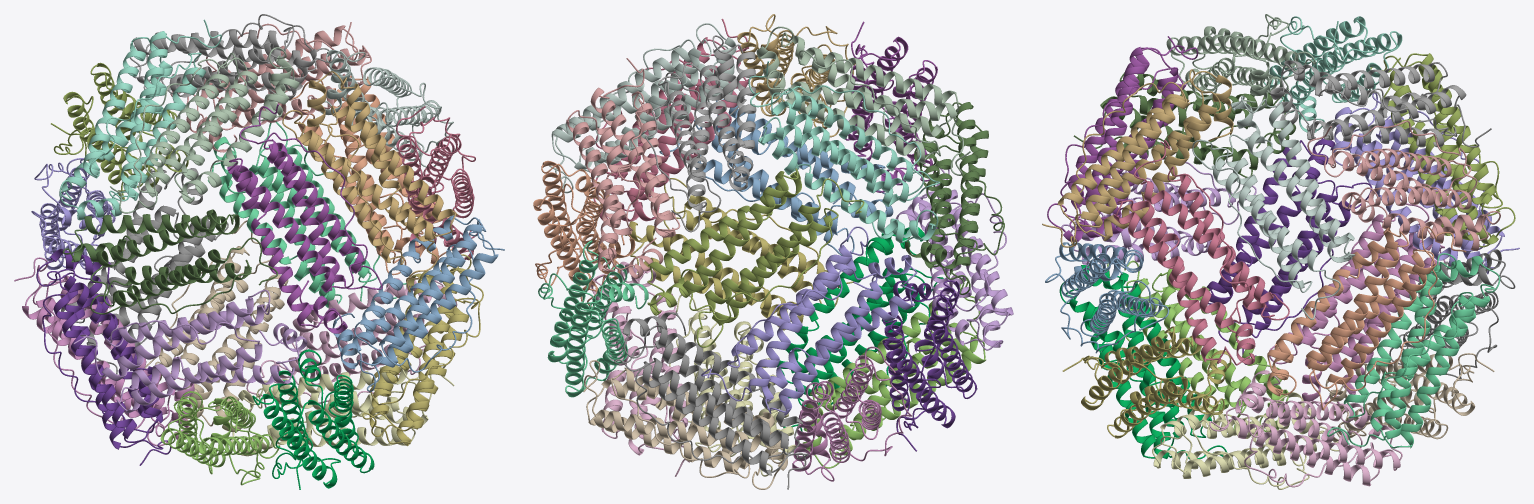
File: FERRITIN-1MFR.glb
3 renders of one model, left to right at view 1: azimuth 30°, elevation 25°; view 2: azimuth 150°, elevation 25°; view 3: azimuth 270°, elevation 25°, orthographic.
Visible parts, largest first — view 1: ribbons; view 2: ribbons; view 3: ribbons.
Part boxes in pixels (x1,y1,x2,y2): ribbons: (14, 14, 504, 489); ribbons: (533, 14, 1013, 489); ribbons: (1042, 14, 1519, 489).
Bounding box in the file's own units: 125 × 123 × 123.
